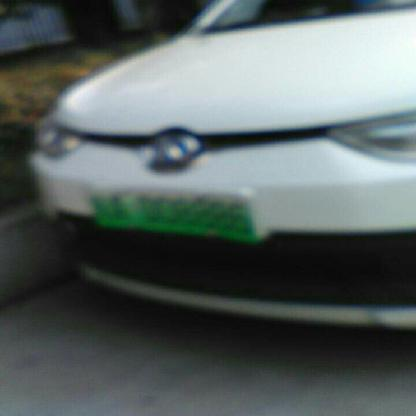lp: (87, 186, 254, 240)
